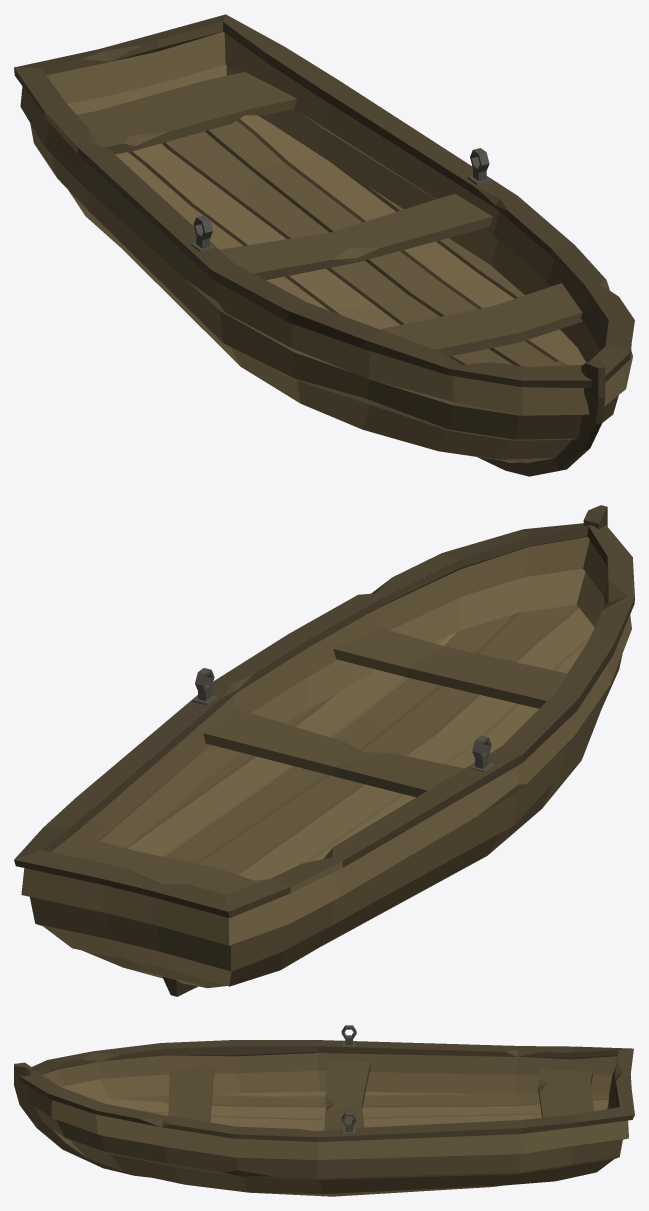
The model's file is BoatSmall_1.fbx.
3 renders of one model, top to bottom at view 1: azimuth 30°, elevation 25°; view 2: azimuth 150°, elevation 25°; view 3: azimuth 270°, elevation 25°, orthographic. The views are drawn at different scales.
Visible parts, largest first — view 1: BoatSmall_1; view 2: BoatSmall_1; view 3: BoatSmall_1.
Part boxes in pixels (left/top/right/bottom): BoatSmall_1: left=14, top=14, right=634, bottom=476; BoatSmall_1: left=14, top=505, right=634, bottom=996; BoatSmall_1: left=14, top=1025, right=634, bottom=1196.
Size of the model in its own units: 148 by 89.99 by 402.
